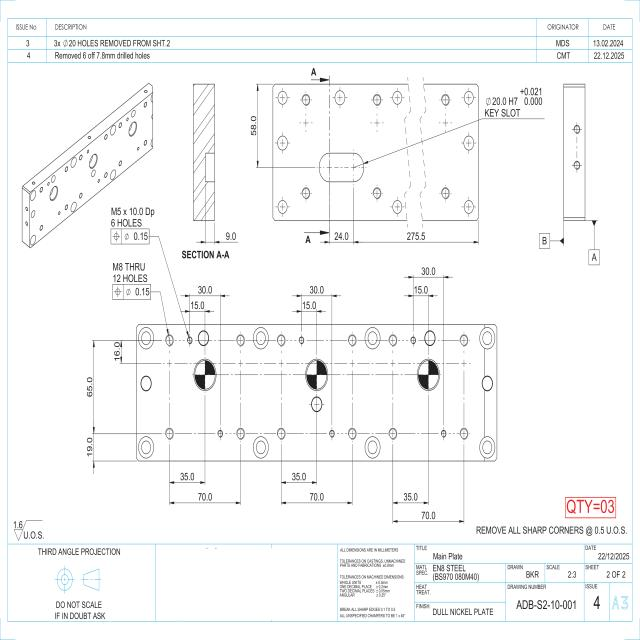dimension: (483, 86, 543, 118), (110, 206, 156, 228), (111, 261, 149, 284), (406, 230, 426, 242), (85, 375, 94, 398), (85, 436, 94, 458), (334, 230, 349, 242), (421, 265, 436, 277), (197, 284, 213, 295), (309, 284, 325, 295), (413, 284, 429, 295), (179, 471, 195, 482), (197, 491, 213, 502), (291, 471, 307, 482), (309, 491, 325, 502), (402, 491, 418, 502), (250, 113, 257, 137), (113, 341, 121, 362), (421, 510, 436, 521), (190, 300, 206, 310), (302, 300, 317, 310), (224, 230, 237, 241)
